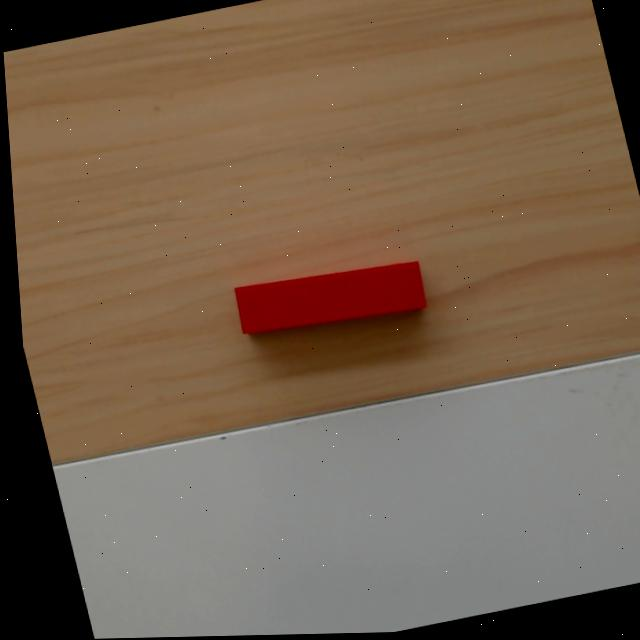Balok-Merah-1002525: (234, 260, 426, 334)
